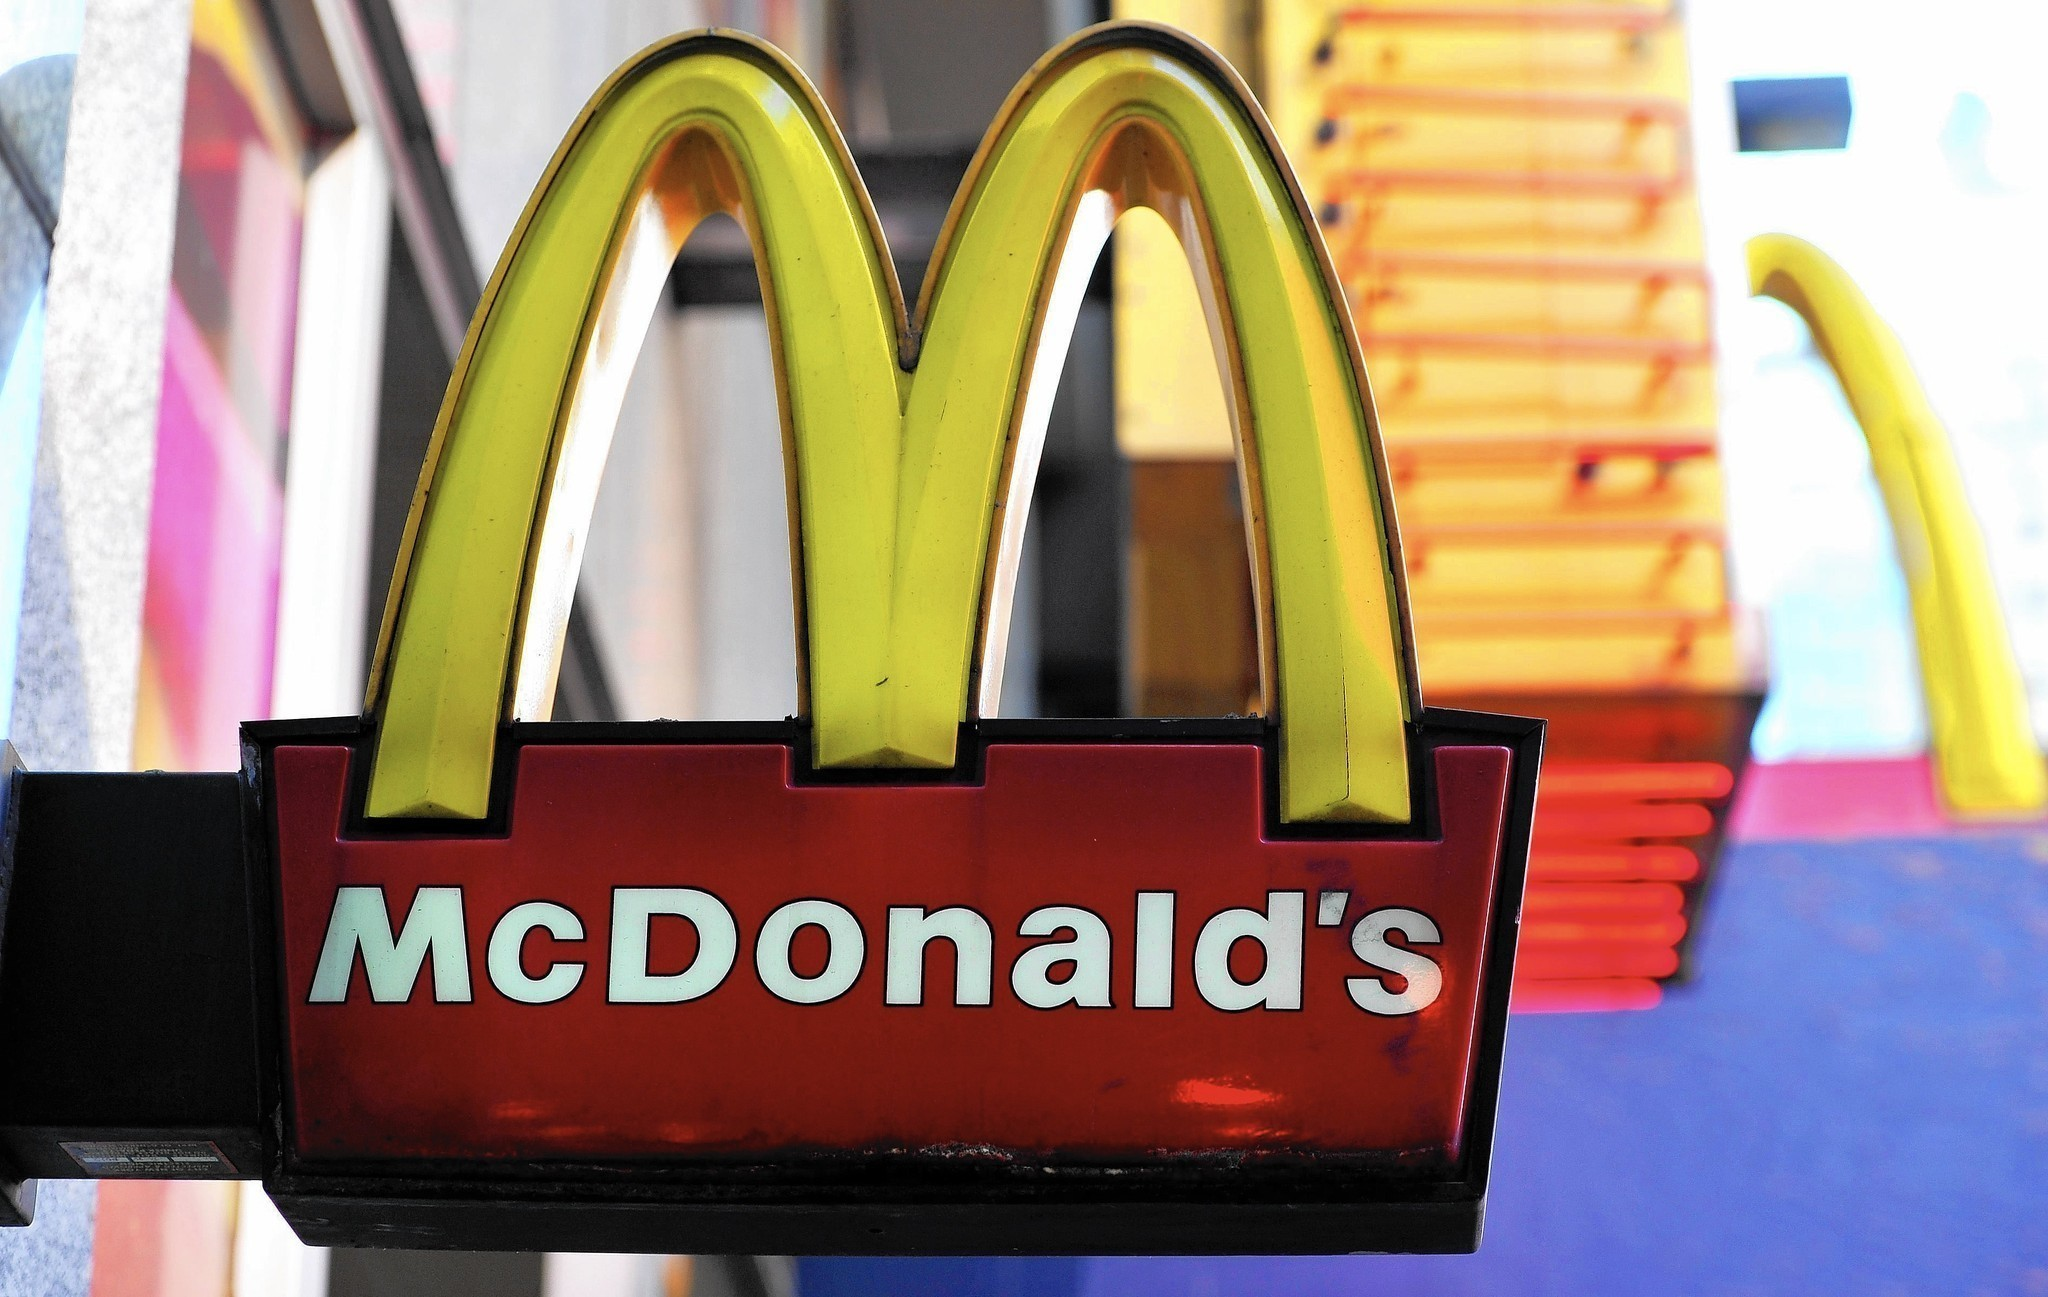mcdonalds: (342, 31, 1424, 828)
